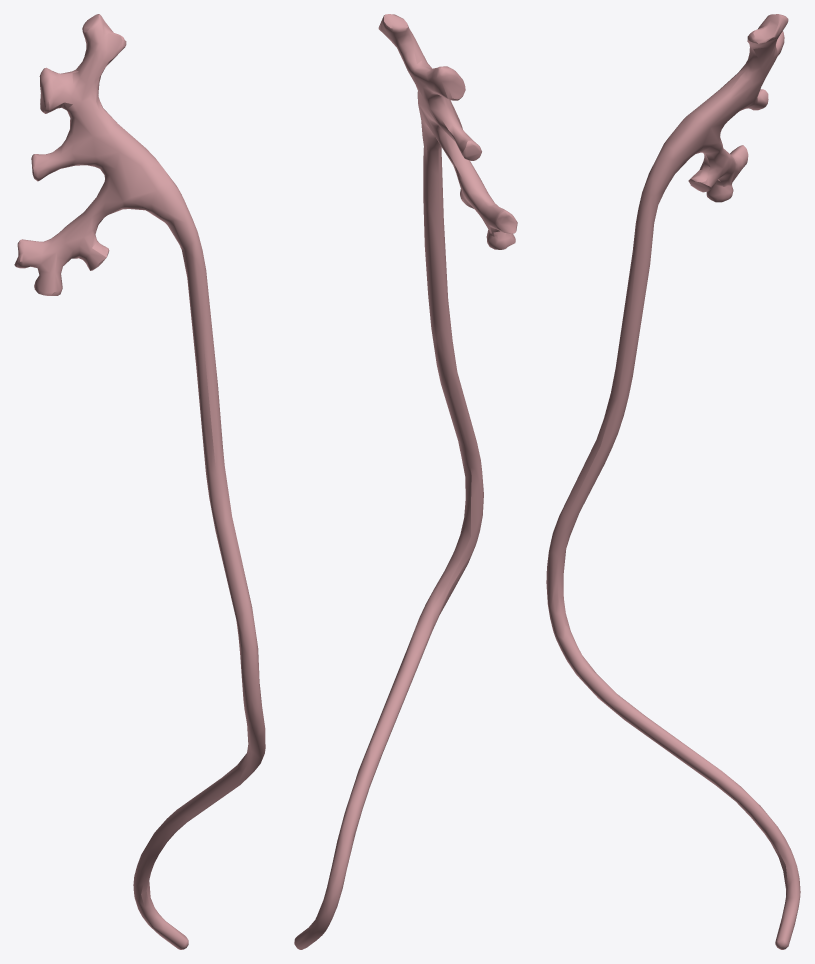
File: fma15571.glb
3 renders of one model, left to right at view 1: azimuth 30°, elevation 25°; view 2: azimuth 150°, elevation 25°; view 3: azimuth 270°, elevation 25°, orthographic. The views are drawn at different scales.
Parts seen in each view (by area): view 1: FMA15571; view 2: FMA15571; view 3: FMA15571.
Part boxes in pixels (x1=…): FMA15571: x1=14, y1=14, x2=265, y2=949; FMA15571: x1=294, y1=14, x2=517, y2=949; FMA15571: x1=546, y1=14, x2=800, y2=949.
Bounding box in the file's own units: 0.0596 × 0.2771 × 0.0712.
